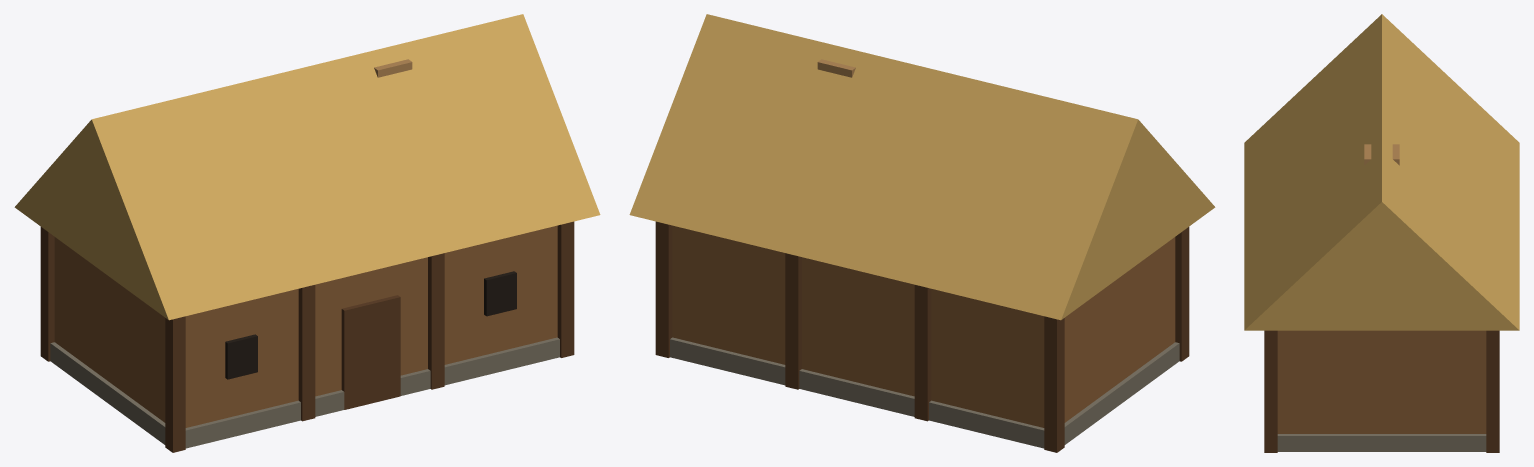
File: castle_wood_hall.glb
The picture shows the model from 3 angles, left to right: view 1: azimuth 30°, elevation 25°; view 2: azimuth 150°, elevation 25°; view 3: azimuth 270°, elevation 25°; orthographic projection. The views are drawn at different scales.
Parts seen in each view (by area): view 1: castle_wood_hall; view 2: castle_wood_hall; view 3: castle_wood_hall.
Part boxes in pixels (box(x1,y1,x2,y2)): castle_wood_hall: box(14, 14, 600, 452); castle_wood_hall: box(629, 14, 1215, 452); castle_wood_hall: box(1244, 14, 1519, 452).
Bounding box in the file's own units: 10 × 6.4 × 6.2.
